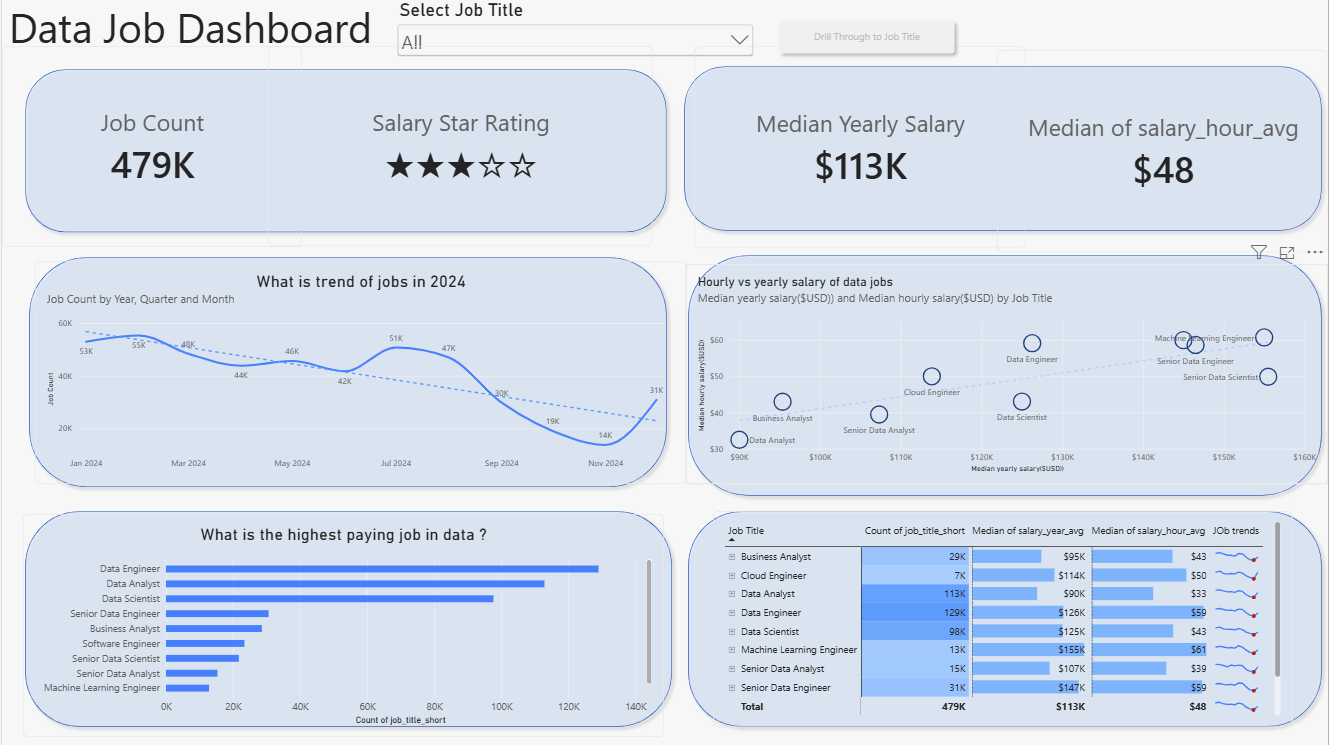

Layout of this report page (visuals, bound fields, positions):
{"tool":"powerbi","page":{"name":"Data Jobs Dashboard","canvas":[1920,1080],"ordinal":0},"visuals":[{"type":"group","id":"g1","title":"Background","box":[24.8,89,1895.7,975.2],"z":0},{"type":"textbox","box":[10.1,0,557.5,110.7],"z":1000},{"type":"slicer","fields":{"Values":["job_postings_flat.job_title_short"]},"box":[567.5,0,525.3,88.6],"z":2000},{"type":"cardVisual","fields":{"Data":["CountNonNull(job_postings_flat.job_title_short)"]},"box":[0,68.6,434.8,291.8],"z":3000},{"type":"cardVisual","fields":{"Data":["job_postings_flat.Salary Star Rating"]},"box":[385.1,68.3,557.3,290.3],"z":4000},{"type":"cardVisual","fields":{"Data":["Median(job_postings_flat.salary_year_avg)"]},"box":[1001.7,68.3,480,293.3],"z":5000},{"type":"cardVisual","fields":{"Data":["Median(job_postings_flat.salary_hour_avg)"]},"box":[1440,74,480,293.3],"z":6000},{"type":"lineChart","title":"What is trend of jobs in 2024","fields":{"Category":["job_postings_flat.job_posted_date.Variation.Date Hierarchy.Year","job_postings_flat.job_posted_date.Variation.Date Hierarchy.Quarter","job_postings_flat.job_posted_date.Variation.Date Hierarchy.Month","job_postings_flat.job_posted_date.Variation.Date Hierarchy.Day"],"Y":["CountNonNull(job_postings_flat.job_title)"]},"box":[47.4,379.4,942.9,322.5],"z":7000},{"type":"barChart","title":"What is the highest paying job in data ?","fields":{"Category":["job_postings_flat.job_title_short"],"Y":["CountNonNull(job_postings_flat.job_title_short)"]},"box":[30.4,745.6,927.7,322.5],"z":8000},{"type":"scatterChart","title":"Hourly vs yearly salary of data jobs","fields":{"Series":["job_postings_flat.job_title_short"],"X":["Median(job_postings_flat.salary_year_avg)"],"Y":["Median(job_postings_flat.salary_hour_avg)"]},"box":[990.4,383.2,929.6,318.7],"z":9000},{"type":"shape","box":[24.8,92.8,946.7,254.2],"z":10000,"group":"g1"},{"type":"pivotTable","fields":{"Rows":["job_postings_flat.job_title_short","job_postings_flat.job_posted_date.Variation.Date Hierarchy.Quarter"],"Values":["CountNonNull(job_postings_flat.job_title_short)","Median(job_postings_flat.salary_year_avg)","Median(job_postings_flat.salary_hour_avg)","SparklineData(CountNonNull(job_postings_flat.job_title_short)_[job_postings_flat.job_posted_date.Variation.Date Hierarch"]},"box":[1030.2,741.8,838.6,313],"z":10000},{"type":"actionButton","box":[1115.9,21.6,271.9,66.3],"z":11000},{"type":"shape","box":[979.4,89,941,256.1],"z":11000,"group":"g1"},{"type":"shape","box":[984.8,362.2,935.3,366.2],"z":12000,"group":"g1"},{"type":"shape","box":[985.1,734.1,935.3,330.1],"z":13000,"group":"g1"},{"type":"shape","box":[30.8,366,941,351],"z":14000,"group":"g1"},{"type":"shape","box":[25.1,734.1,954.3,330.1],"z":15000,"group":"g1"}]}

Visuals, with their boxes in screenshot pixels (x1, y1, x2, y2), scaled from the page's 1920x1080 canvas onto the 1329x745 screenshot:
"Background" group: box(17, 61, 1328, 734)
textbox: box(7, 0, 393, 76)
slicer - job_postings_flat.job_title_short: box(393, 0, 756, 61)
cardVisual - CountNonNull(job_postings_flat.job_title_short): box(0, 47, 301, 249)
cardVisual - job_postings_flat.Salary Star Rating: box(267, 47, 652, 247)
cardVisual - Median(job_postings_flat.salary_year_avg): box(693, 47, 1026, 249)
cardVisual - Median(job_postings_flat.salary_hour_avg): box(997, 51, 1328, 253)
"What is trend of jobs in 2024" lineChart: box(33, 262, 685, 484)
"What is the highest paying job in data ?" barChart: box(21, 514, 663, 737)
"Hourly vs yearly salary of data jobs" scatterChart: box(686, 264, 1328, 484)
shape: box(17, 64, 672, 239)
pivotTable - job_postings_flat.job_title_short x job_postings_flat.job_posted_date.Variation.Date Hierarchy.Quarter: box(713, 512, 1294, 728)
actionButton: box(772, 15, 961, 61)
shape: box(678, 61, 1328, 238)
shape: box(682, 250, 1328, 502)
shape: box(682, 506, 1328, 734)
shape: box(21, 252, 673, 495)
shape: box(17, 506, 678, 734)
